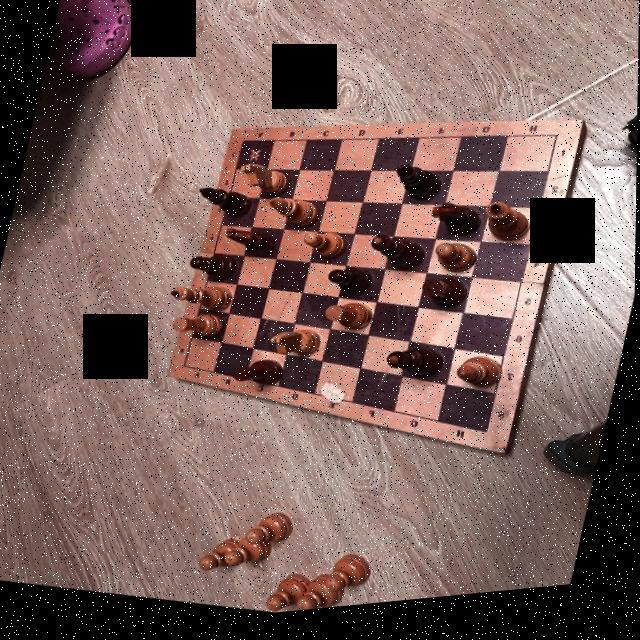chess-table-corners: (482, 436, 492, 446), (552, 141, 562, 150), (239, 140, 248, 148), (182, 366, 189, 373)
